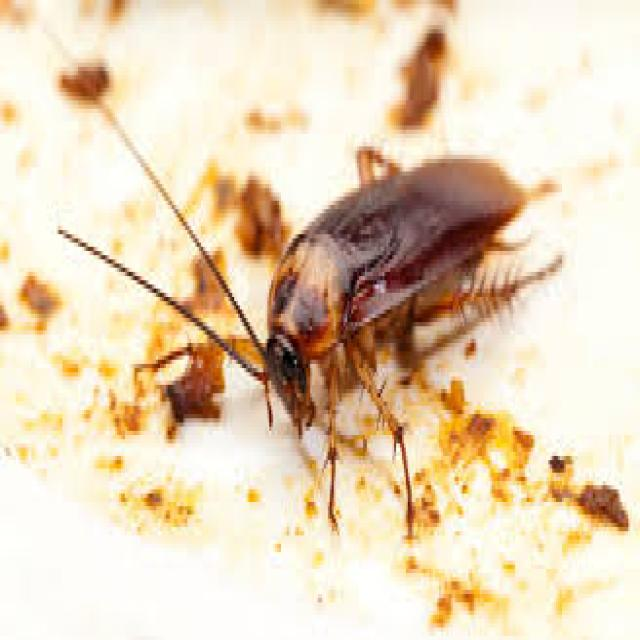Cockroach: (185, 113, 568, 519)
